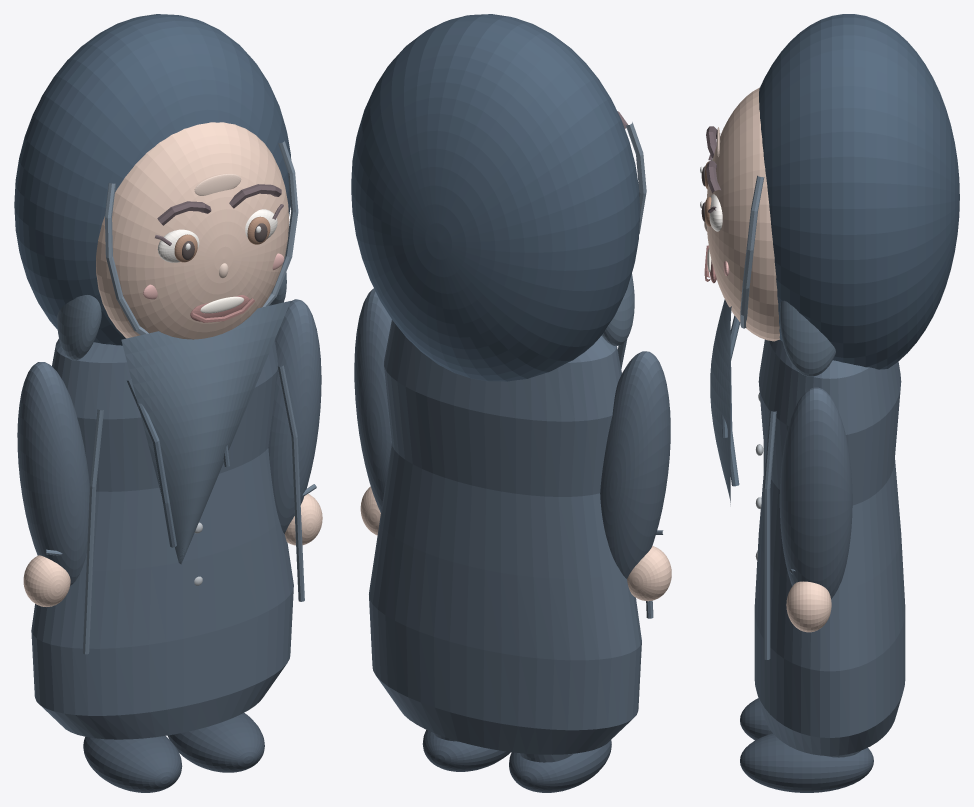
The model's file is avatar.glb.
The picture shows the model from 3 angles, left to right: view 1: azimuth 30°, elevation 25°; view 2: azimuth 150°, elevation 25°; view 3: azimuth 270°, elevation 25°; orthographic projection. The views are drawn at different scales.
Parts seen in each view (by area): view 1: AbayaTorso, HijabHood, Face, HijabChestDrape, Arm_L_Sleeve, Arm_R_Sleeve, Leg_L_Shoe, Leg_R_Shoe, HijabFaceSeam, HijabFold_L, Arm_L_Hand, AbayaFold_L (+7 smaller); view 2: AbayaTorso, HijabHood, Arm_L_Sleeve, Arm_R_Sleeve, Leg_L_Shoe, Leg_R_Shoe, Arm_L_Hand, HijabFold_L, HijabFaceSeam, Arm_R_Hand; view 3: HijabHood, AbayaTorso, Arm_R_Sleeve, Face, Leg_R_Shoe, HijabChestDrape, HijabFold_R, AbayaFold_R, Arm_R_Hand, HijabFaceSeam, Leg_L_Shoe, ScarfFold_L.
Part boxes in pixels (bbox=[...]): AbayaTorso: bbox=[31, 339, 293, 739]; HijabHood: bbox=[14, 14, 291, 345]; Face: bbox=[96, 122, 289, 339]; HijabChestDrape: bbox=[121, 301, 290, 564]; Arm_L_Sleeve: bbox=[17, 362, 89, 585]; Arm_R_Sleeve: bbox=[268, 299, 321, 533]; Leg_L_Shoe: bbox=[83, 736, 182, 792]; Leg_R_Shoe: bbox=[168, 713, 264, 772]; HijabFaceSeam: bbox=[105, 141, 298, 334]; HijabFold_L: bbox=[57, 295, 101, 360]; Arm_L_Hand: bbox=[23, 555, 70, 606]; AbayaFold_L: bbox=[82, 409, 103, 654]; AbayaTorso: bbox=[369, 320, 641, 754]; HijabHood: bbox=[351, 14, 640, 381]; Arm_L_Sleeve: bbox=[600, 351, 670, 578]; Arm_R_Sleeve: bbox=[354, 288, 391, 512]; Leg_L_Shoe: bbox=[509, 740, 611, 792]; Leg_R_Shoe: bbox=[422, 730, 510, 771]; Arm_L_Hand: bbox=[627, 546, 671, 601]; HijabFold_L: bbox=[601, 274, 634, 346]; HijabFaceSeam: bbox=[625, 122, 646, 233]; Arm_R_Hand: bbox=[360, 486, 380, 535]; HijabHood: bbox=[759, 14, 959, 369]; AbayaTorso: bbox=[754, 339, 905, 755]; Arm_R_Sleeve: bbox=[779, 387, 852, 598]; Face: bbox=[706, 87, 779, 341]; Leg_R_Shoe: bbox=[740, 733, 873, 792]; HijabChestDrape: bbox=[710, 299, 731, 504]; HijabFold_R: bbox=[779, 300, 835, 376]; AbayaFold_R: bbox=[763, 410, 776, 659]; Arm_R_Hand: bbox=[786, 581, 831, 632]; HijabFaceSeam: bbox=[740, 175, 764, 328]; Leg_L_Shoe: bbox=[740, 698, 772, 740]; ScarfFold_L: bbox=[730, 315, 740, 486].
Bounding box in the file's own units: 0.819 × 1.95 × 0.62.
